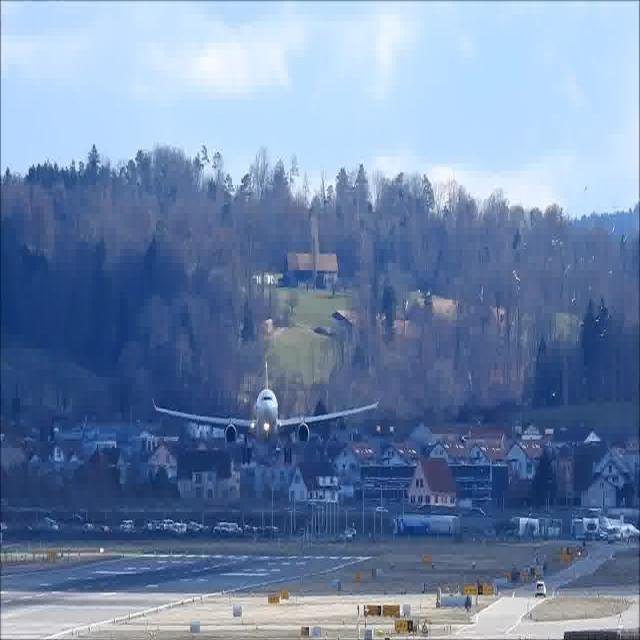bird: (512, 268, 523, 286), (478, 286, 484, 309), (564, 260, 572, 277), (583, 186, 591, 199), (570, 291, 576, 305), (600, 328, 608, 338), (607, 266, 613, 276), (611, 224, 616, 235), (595, 316, 601, 325)
